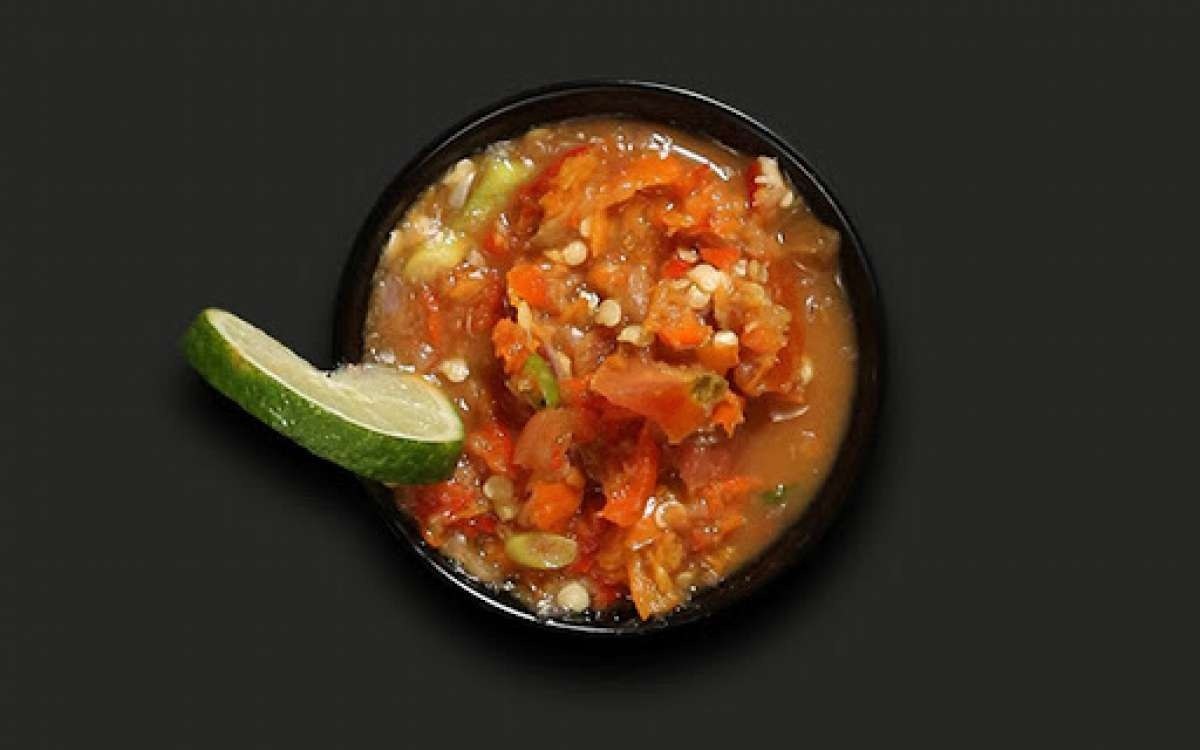sambal: (371, 141, 838, 611)
